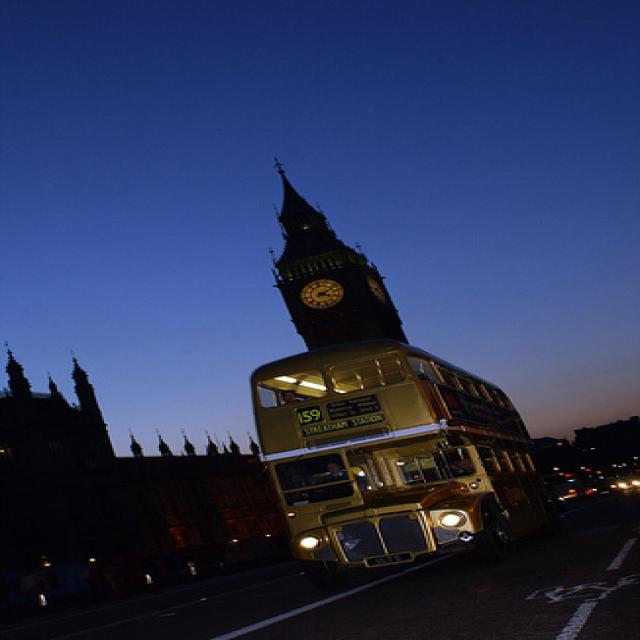Bus: (230, 337, 560, 602)
